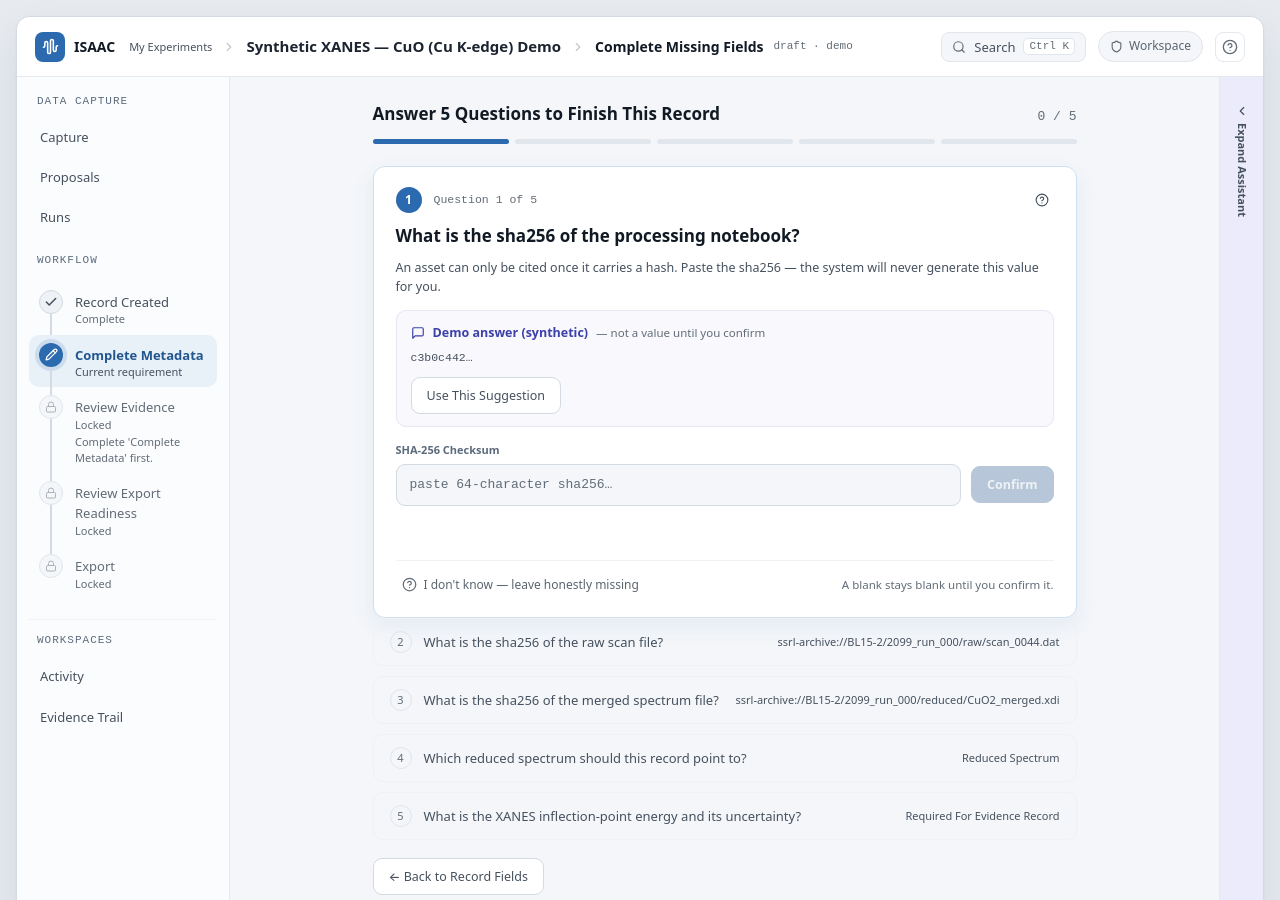
Test: S4 · an answer is shown as confirmed only when the server reported it applied › FAIL CLOSED: the blocker is resolved but changed:false — the answer is not claimed
expect the heading "What is the sha256 of the processing notebook?" is shown: met, box [396,224,800,247]
Type "c3b0c44298fc1c149afbf4c8996fb92427ae41e4649b934ca495991b7852b345" into the field named "Asset Hash" at (678, 485), box [396,464,961,506]
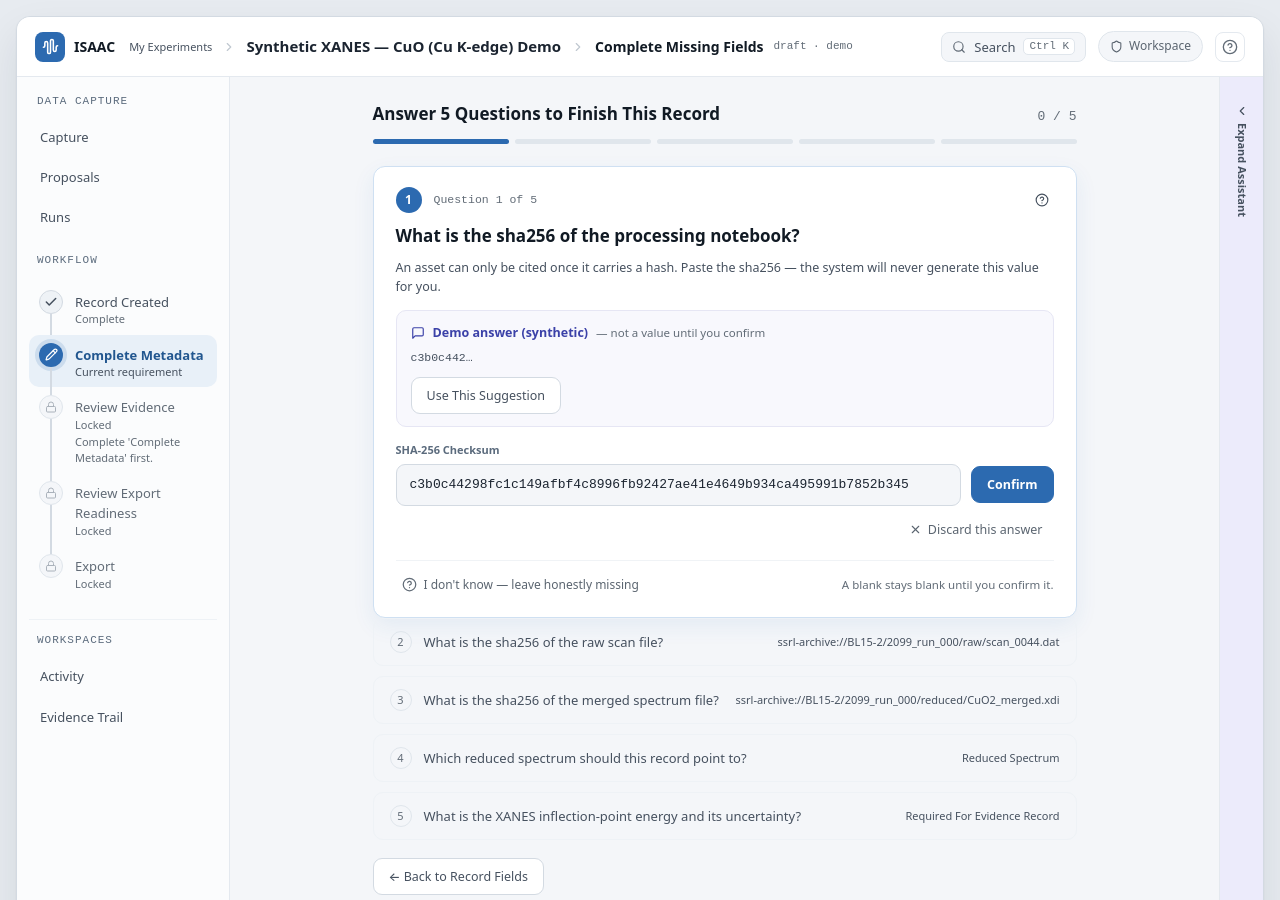
Click the button "Confirm" at (1012, 485), box [971,466,1054,503]
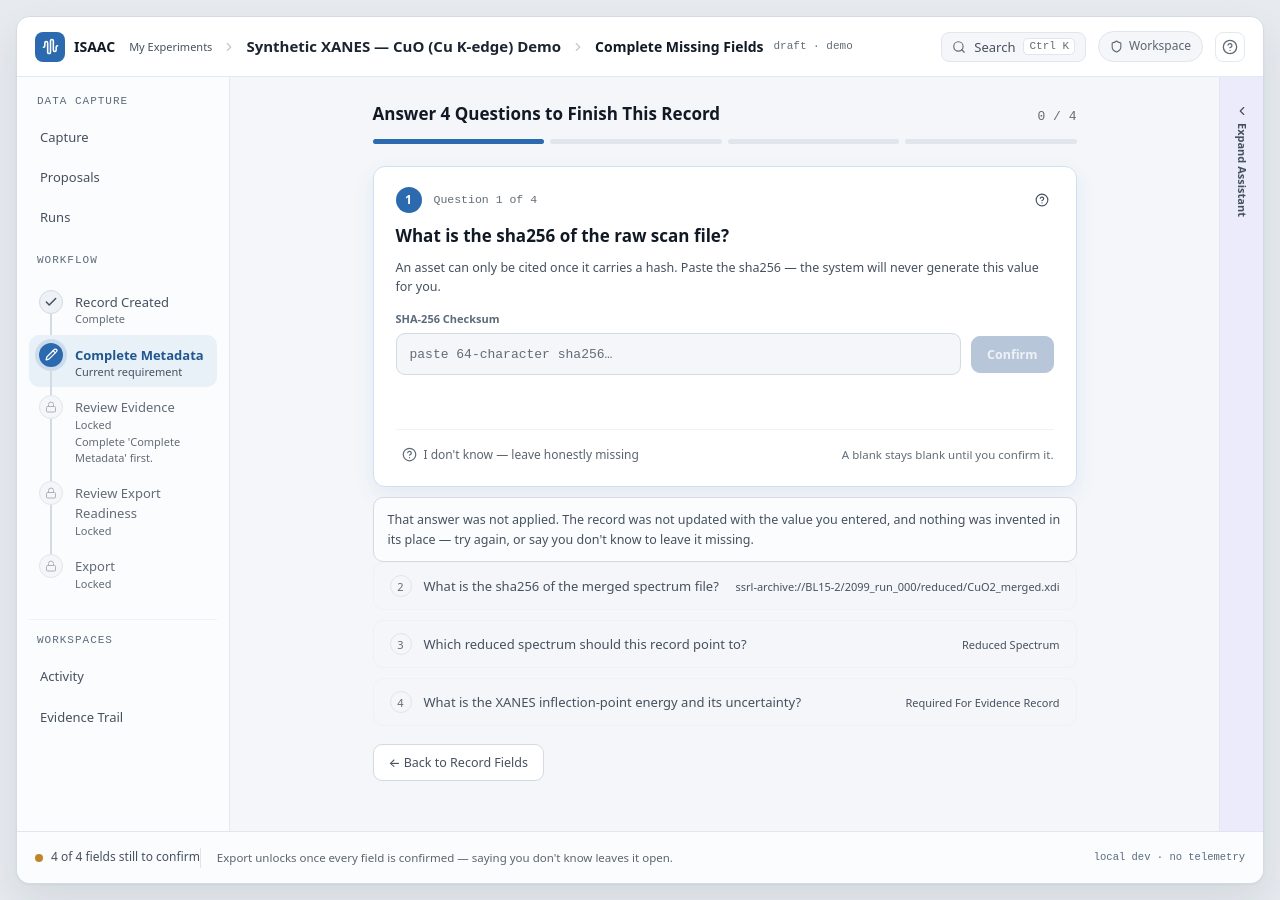
expect the text "That answer was not applied." is shown: met, box [388,512,1060,548]
expect the text "0 / 4" is shown: met, box [1038,107,1076,127]
